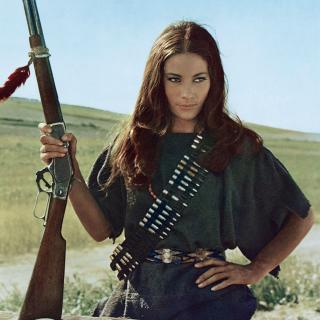gun: (9, 5, 88, 317)
